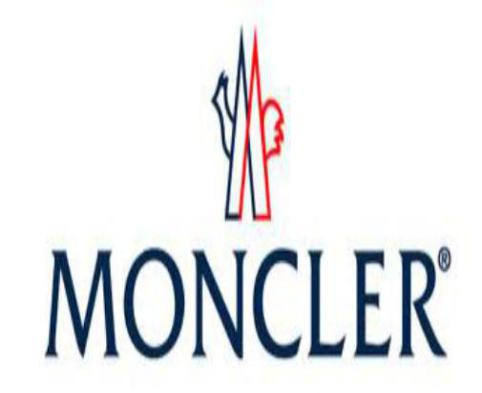MONCLER: (41, 245, 452, 362), (210, 25, 284, 223)
